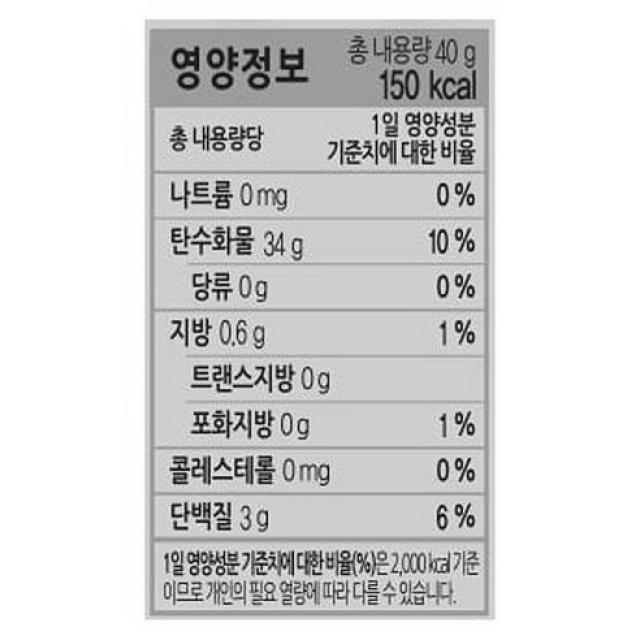Nutrition Label: (136, 11, 507, 628)
